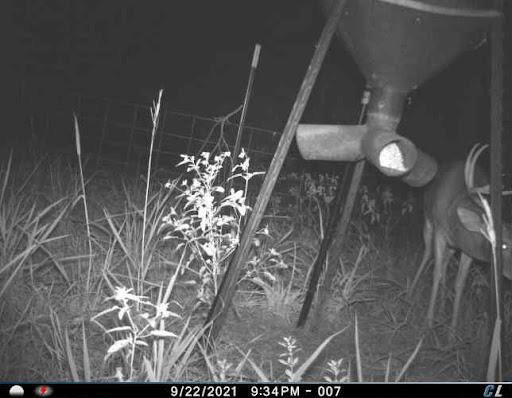Deer: (425, 143, 512, 335)
